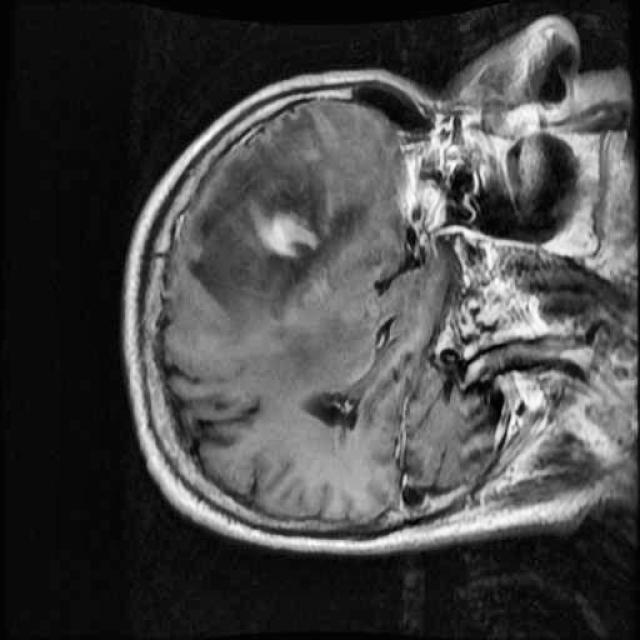Tumor: (186, 104, 372, 350)
